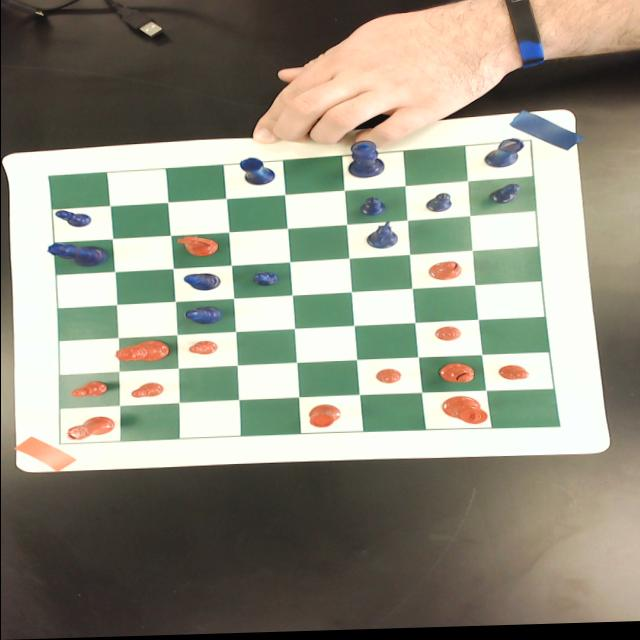B: (183, 306, 221, 327), (182, 274, 220, 293)
K: (346, 143, 384, 181)
N: (363, 223, 398, 251)
P: (486, 187, 521, 208), (53, 209, 91, 228), (424, 195, 452, 216), (358, 199, 386, 219), (250, 273, 278, 289)
Q: (45, 242, 107, 269)
R: (482, 141, 522, 171), (238, 159, 274, 187)
b: (439, 366, 476, 387), (427, 264, 461, 284)
cb: (48, 144, 559, 444)
k: (440, 399, 488, 429)
n: (176, 236, 220, 259)
p: (69, 381, 107, 398), (495, 368, 529, 384), (129, 383, 163, 399), (187, 342, 217, 357), (374, 371, 402, 387), (432, 329, 460, 344)
q: (114, 341, 168, 364)
r: (64, 415, 114, 442), (308, 405, 342, 432)
